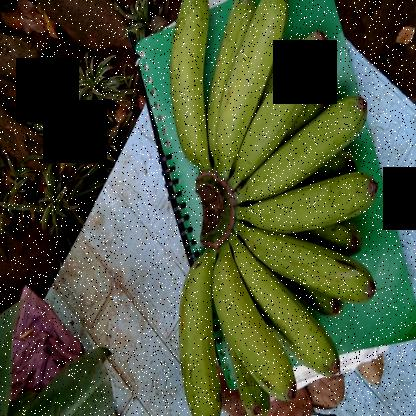freshunripe: (226, 256, 344, 381), (238, 24, 331, 176), (218, 0, 290, 175), (257, 93, 365, 200), (165, 237, 229, 415), (242, 161, 388, 232), (166, 0, 216, 166)
unripe: (239, 226, 378, 309)
